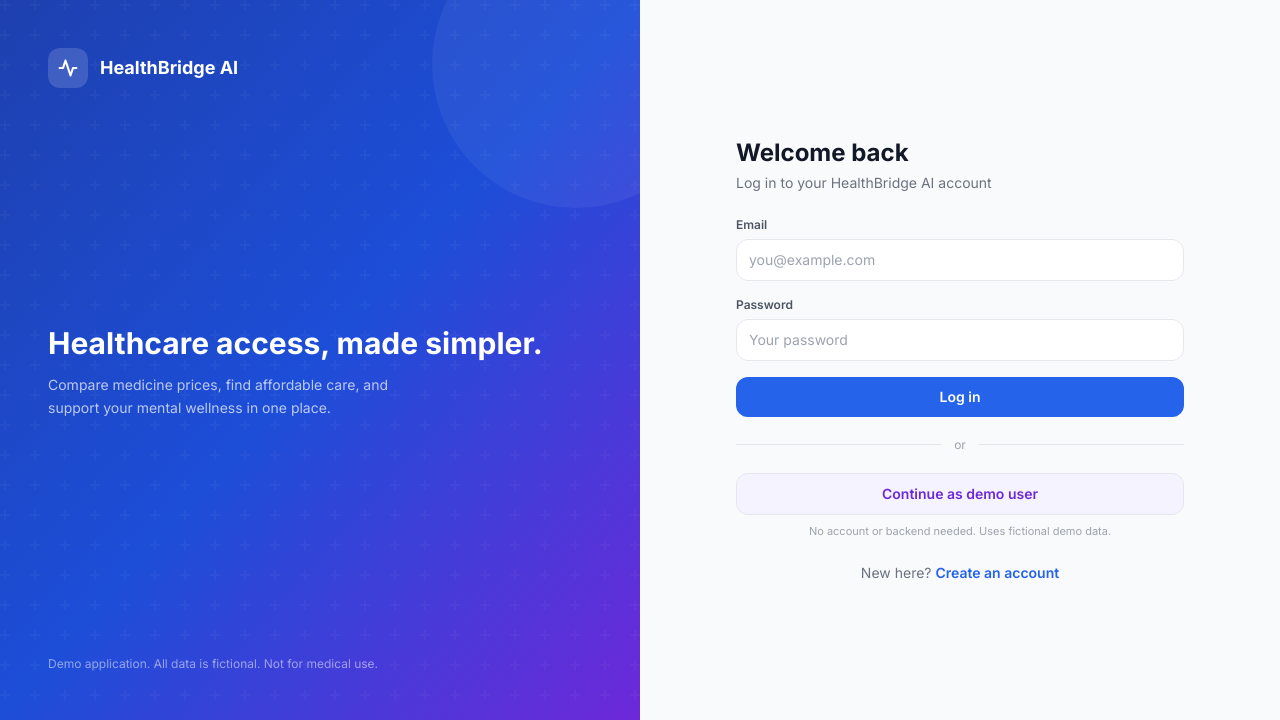
Test: Login and sign up › login rejects a bad email
Type "not-an-email" into the field labelled "Email" at (960, 260), box [736, 239, 1184, 281]
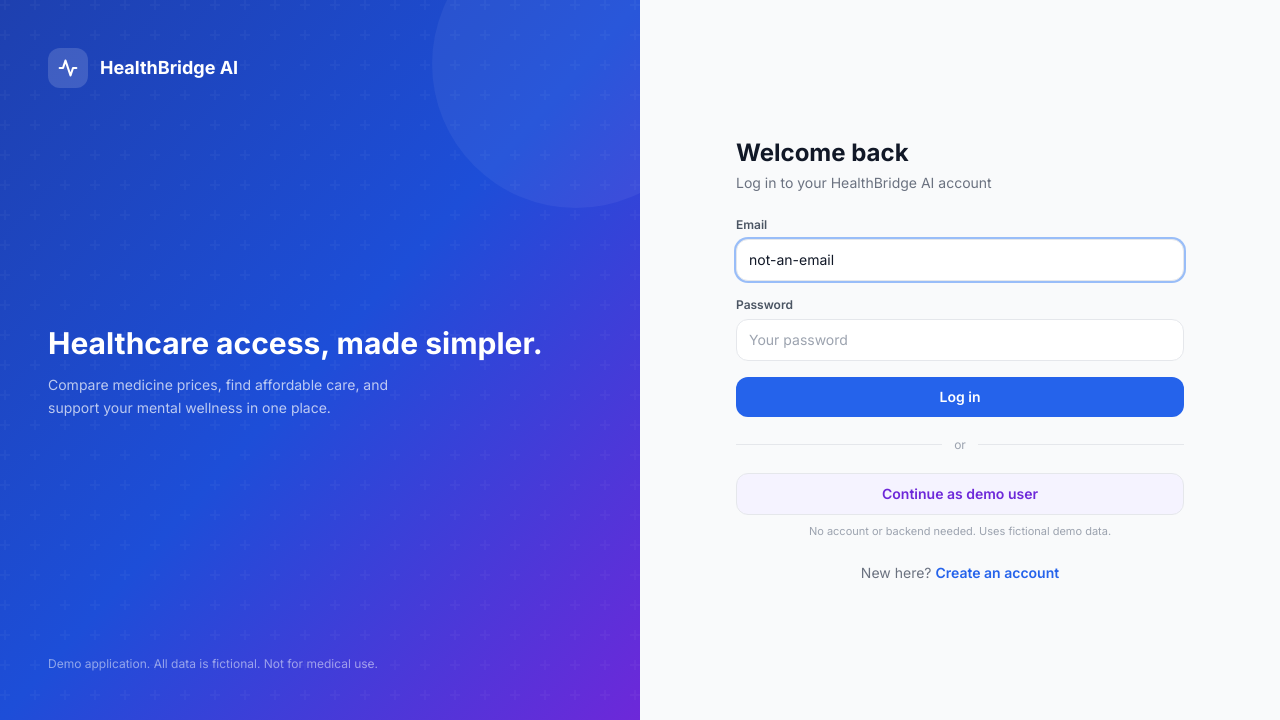
Type "whatever" into the password field labelled "Password" at (960, 340), box [736, 319, 1184, 361]
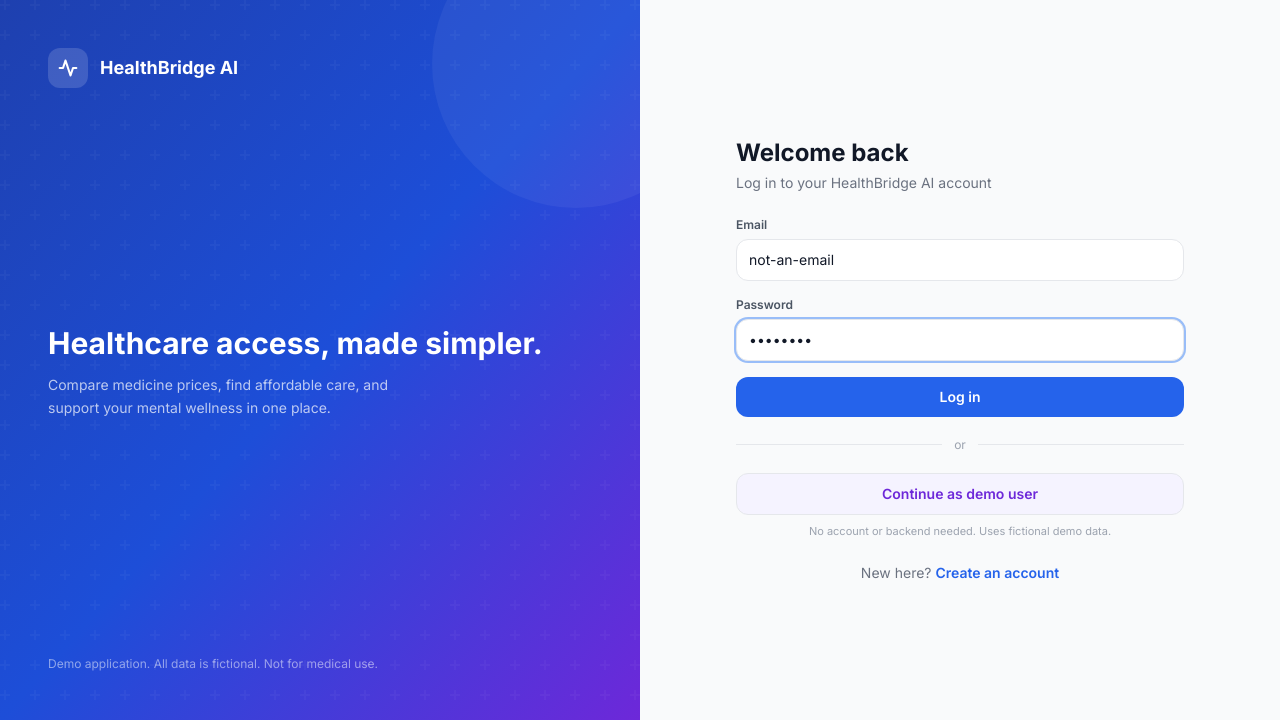
Click the button "Log in" at (960, 397), box [736, 377, 1184, 417]
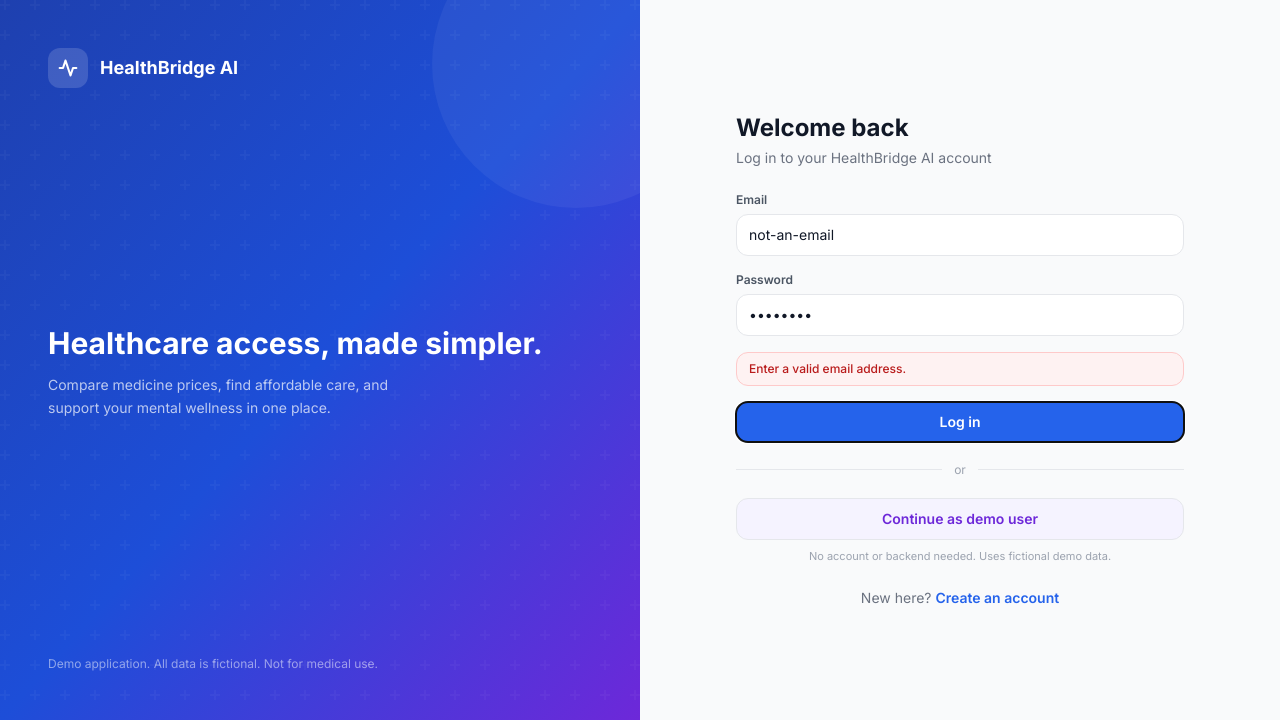
Expected: the message shows "valid email", [749, 361, 906, 376]
